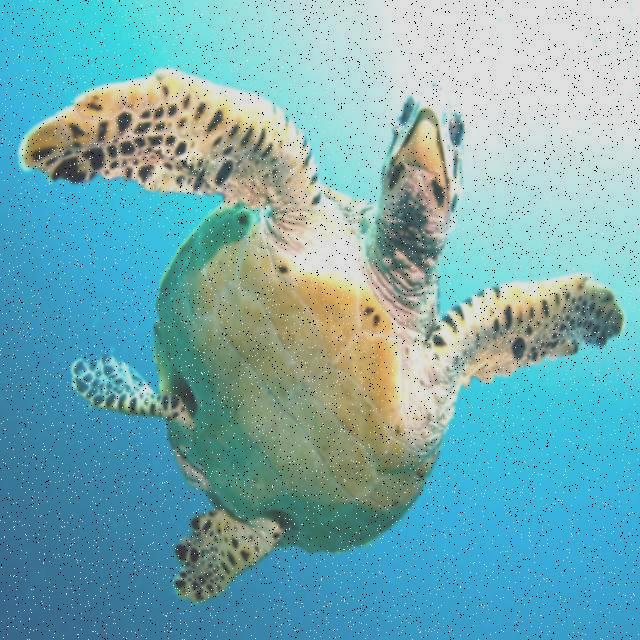tortoise: (19, 71, 615, 606)
